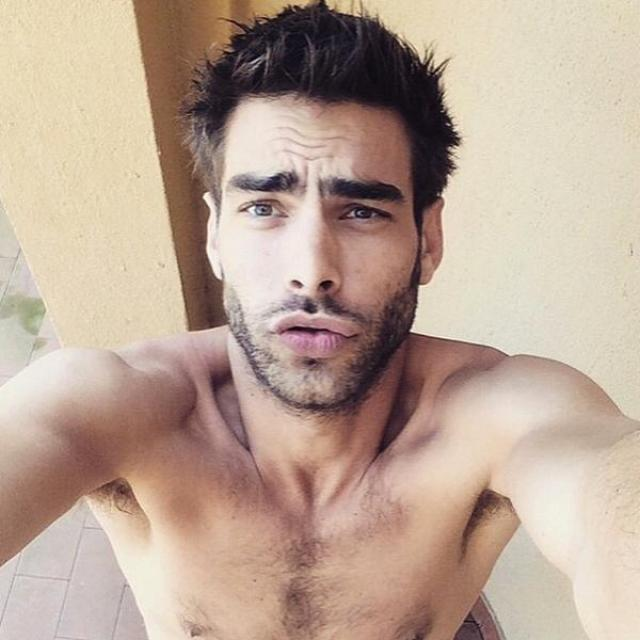human: (3, 4, 640, 639)
